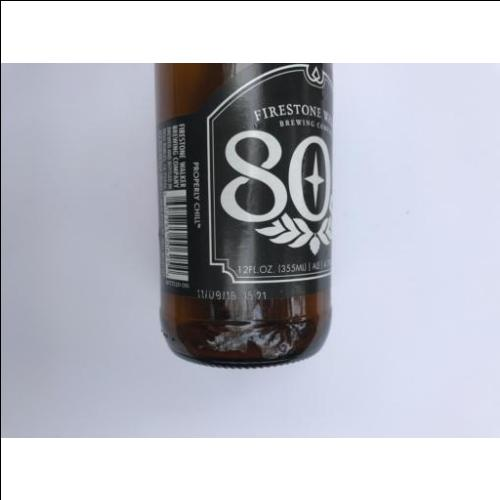glass: (159, 62, 334, 367)
